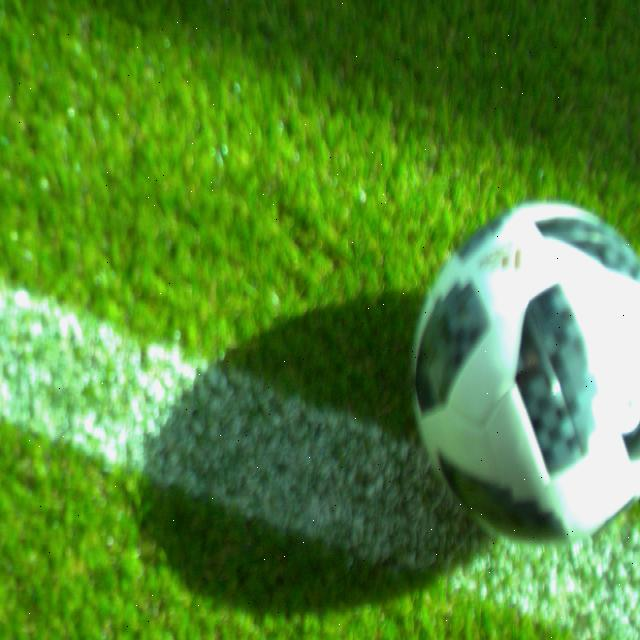ball: (412, 200, 640, 545)
